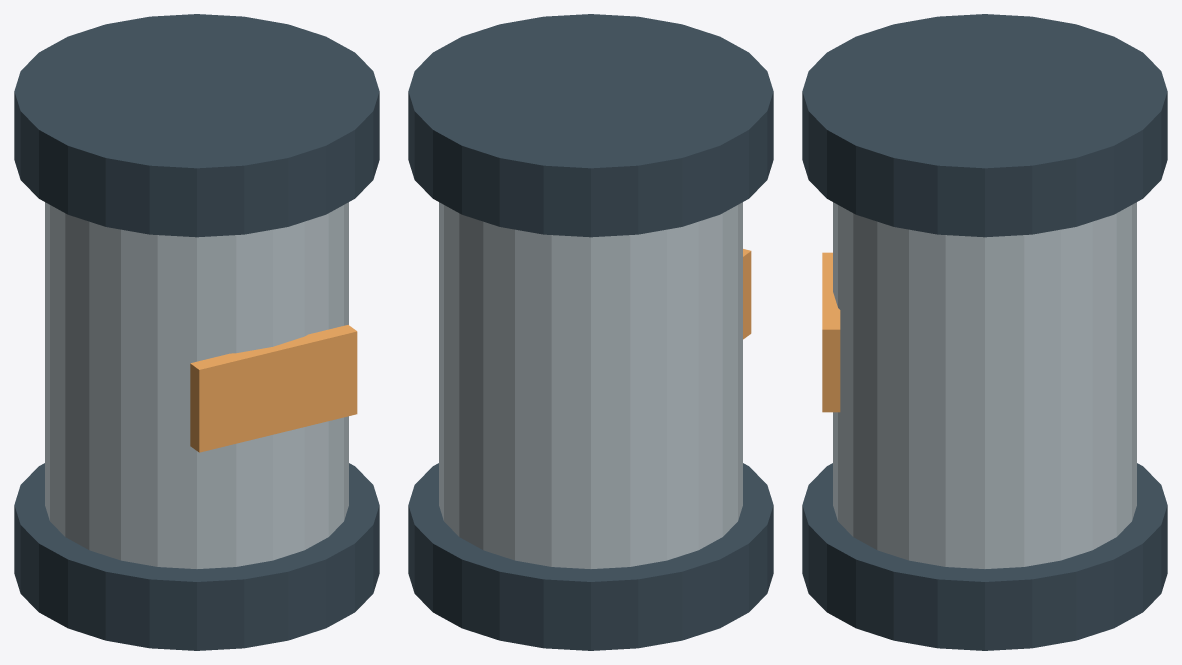
Rendered from filter.glb.
3 views of the same model, side by side, from view 1: azimuth 30°, elevation 25°; view 2: azimuth 150°, elevation 25°; view 3: azimuth 270°, elevation 25° (orthographic).
Size of the model in its own units: 0.24 by 0.35 by 0.24.
